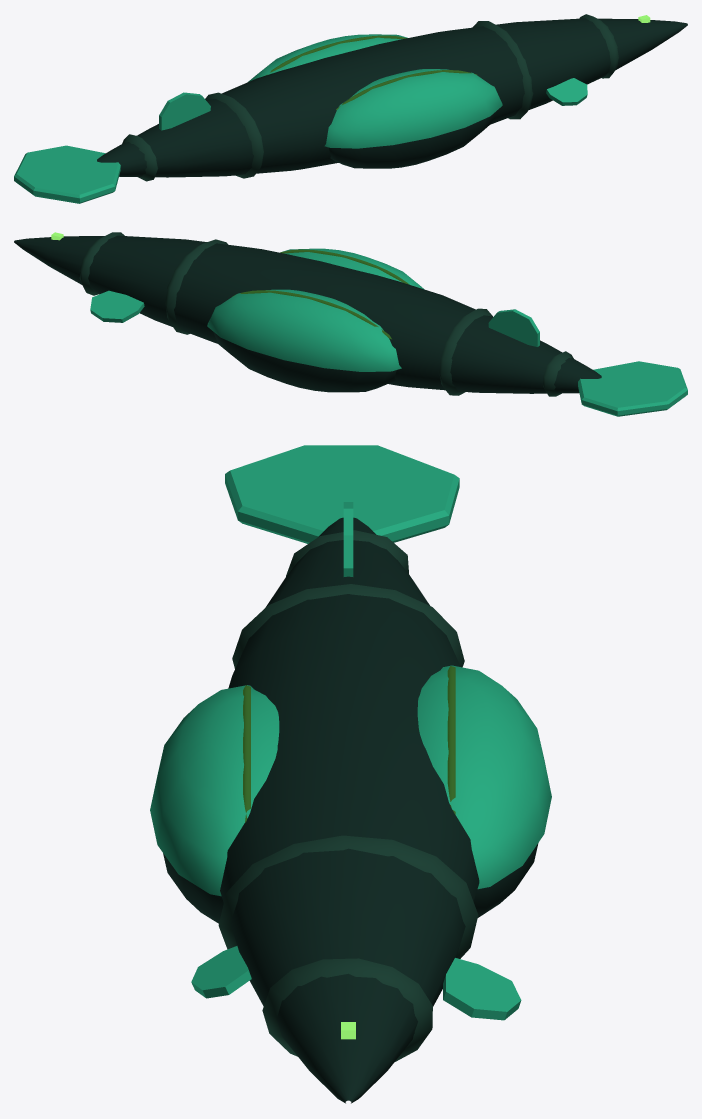
File: drifter-pelagia.glb
The picture shows the model from 3 angles, top to bottom: view 1: azimuth 30°, elevation 25°; view 2: azimuth 150°, elevation 25°; view 3: azimuth 270°, elevation 25°; orthographic projection. The views are drawn at different scales.
Parts seen in each view (by area): view 1: pod_body, bay_valve_outboard_s, drive_fluke, cargo_lobe_s, trim_vane_dorsal, growth_ring_2, growth_ring_0, bay_valve_inboard_p, trim_vane_s, bay_valve_outboard_p, growth_ring_3, growth_ring_1 (+3 smaller); view 2: pod_body, bay_valve_outboard_p, drive_fluke, cargo_lobe_p, trim_vane_p, trim_vane_dorsal, growth_ring_2, growth_ring_0, bay_valve_inboard_s, growth_ring_1, bay_valve_outboard_s, growth_ring_3 (+3 smaller); view 3: pod_body, drive_fluke, bay_valve_outboard_p, bay_valve_outboard_s, growth_ring_0, growth_ring_1, trim_vane_p, growth_ring_2, bay_valve_inboard_p, bay_valve_inboard_s, trim_vane_s, cargo_lobe_p (+4 smaller).
Boxes of the visible parts, x1,y1,x2,y2 form: pod_body: [97, 18, 687, 177]; bay_valve_outboard_s: [324, 72, 502, 148]; drive_fluke: [14, 145, 120, 203]; cargo_lobe_s: [329, 111, 496, 168]; trim_vane_dorsal: [159, 92, 210, 130]; growth_ring_2: [205, 92, 263, 178]; growth_ring_0: [472, 21, 533, 119]; bay_valve_inboard_p: [266, 37, 402, 74]; trim_vane_s: [546, 78, 587, 105]; bay_valve_outboard_p: [248, 34, 407, 81]; growth_ring_3: [122, 134, 158, 181]; growth_ring_1: [579, 14, 618, 78]; pod_body: [14, 235, 601, 393]; bay_valve_outboard_p: [207, 292, 401, 371]; drive_fluke: [578, 361, 687, 416]; cargo_lobe_p: [213, 331, 396, 392]; trim_vane_p: [90, 290, 144, 322]; trim_vane_dorsal: [488, 309, 539, 346]; growth_ring_2: [439, 308, 492, 395]; growth_ring_0: [165, 239, 227, 334]; bay_valve_inboard_s: [284, 252, 402, 282]; growth_ring_1: [79, 232, 124, 295]; bay_valve_outboard_s: [282, 248, 424, 289]; growth_ring_3: [543, 351, 573, 396]; pod_body: [220, 517, 479, 1103]; drive_fluke: [225, 445, 459, 543]; bay_valve_outboard_p: [452, 665, 551, 889]; bay_valve_outboard_s: [150, 685, 247, 896]; growth_ring_0: [218, 835, 478, 958]; growth_ring_1: [262, 958, 432, 1061]; trim_vane_p: [443, 958, 521, 1020]; growth_ring_2: [232, 584, 464, 668]; bay_valve_inboard_p: [417, 665, 451, 808]; bay_valve_inboard_s: [247, 685, 279, 818]; trim_vane_s: [191, 946, 251, 998]; cargo_lobe_p: [473, 843, 538, 917].
Size of the model in its own units: 62 by 8.87 by 16.31.
